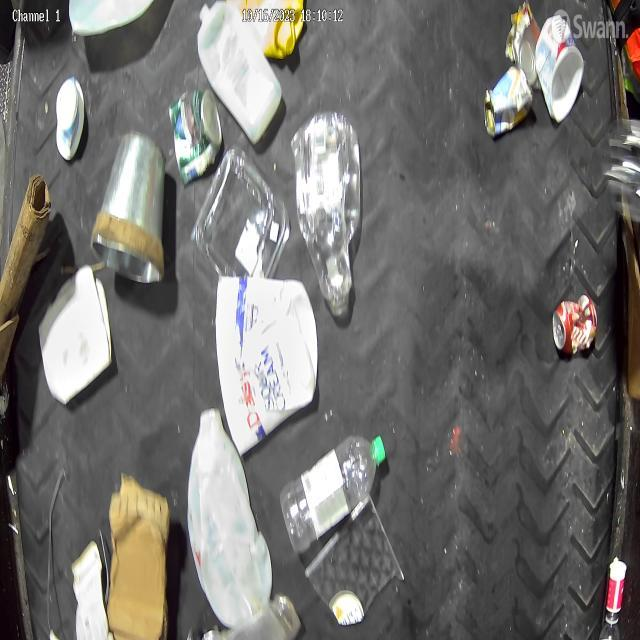can: (168, 87, 224, 188), (482, 63, 534, 139), (552, 292, 598, 357)
milk_jug: (187, 407, 274, 632), (197, 3, 284, 145)
plastic_bottle: (291, 114, 362, 318), (280, 434, 388, 556)
